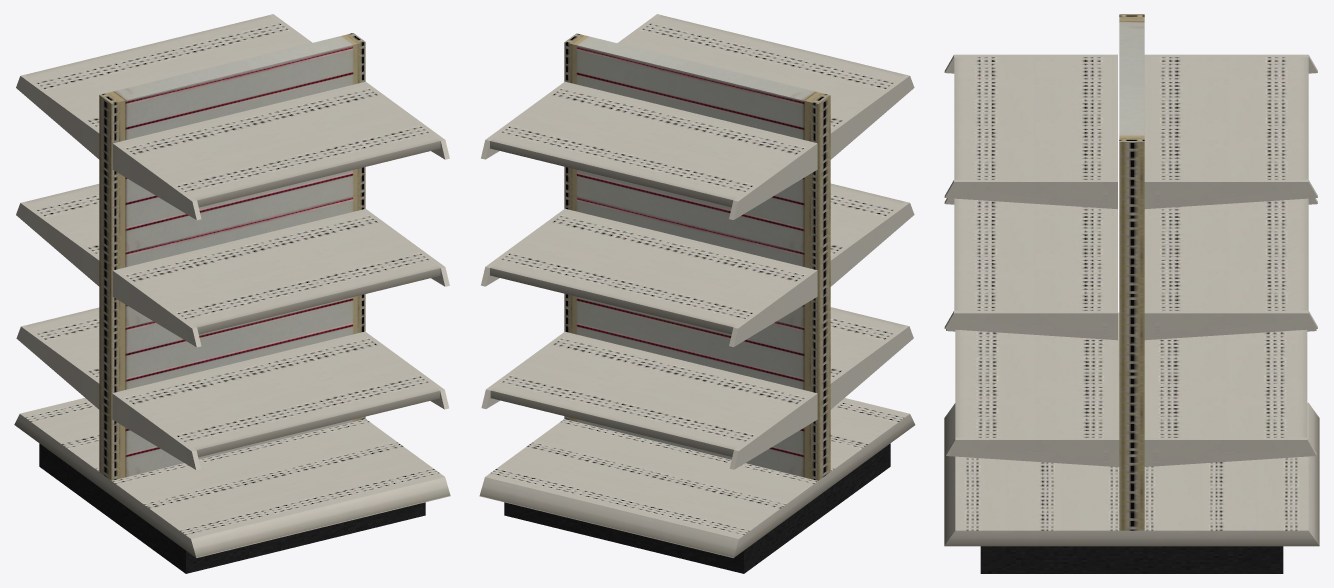
Rendered from Classic64_CommericalShelfShort_Model.fbx.
3 renders of one model, left to right at view 1: azimuth 30°, elevation 25°; view 2: azimuth 150°, elevation 25°; view 3: azimuth 270°, elevation 25°, orthographic. The views are drawn at different scales.
Visible parts, largest first — view 1: Classic64_CommericalShelfShort_Part000, Classic64_CommericalShelfShort_Part001, Classic64_CommericalShelfShort_Part007, Classic64_CommericalShelfShort_Part006, Classic64_CommericalShelfShort_Part008, Classic64_CommericalShelfShort_Part003, Classic64_CommericalShelfShort_Part002, Classic64_CommericalShelfShort_Part004, Classic64_CommericalShelfShort_Part005, Classic64_CommericalShelfShort_Part019, Classic64_CommericalShelfShort_Part018, Classic64_CommericalShelfShort_Part020 (+6 smaller); view 2: Classic64_CommericalShelfShort_Part000, Classic64_CommericalShelfShort_Part001, Classic64_CommericalShelfShort_Part003, Classic64_CommericalShelfShort_Part004, Classic64_CommericalShelfShort_Part005, Classic64_CommericalShelfShort_Part006, Classic64_CommericalShelfShort_Part002, Classic64_CommericalShelfShort_Part007, Classic64_CommericalShelfShort_Part008, Classic64_CommericalShelfShort_Part011, Classic64_CommericalShelfShort_Part010, Classic64_CommericalShelfShort_Part013 (+6 smaller); view 3: Classic64_CommericalShelfShort_Part001, Classic64_CommericalShelfShort_Part003, Classic64_CommericalShelfShort_Part006, Classic64_CommericalShelfShort_Part004, Classic64_CommericalShelfShort_Part007, Classic64_CommericalShelfShort_Part008, Classic64_CommericalShelfShort_Part005, Classic64_CommericalShelfShort_Part000, Classic64_CommericalShelfShort_Part002, Classic64_CommericalShelfShort_Part012, Classic64_CommericalShelfShort_Part009, Classic64_CommericalShelfShort_Part017 (+5 smaller).
Part boxes in pixels (x1,y1,x2,y2): Classic64_CommericalShelfShort_Part000: (99,33,365,480); Classic64_CommericalShelfShort_Part001: (14,398,450,557); Classic64_CommericalShelfShort_Part007: (118,210,440,334); Classic64_CommericalShelfShort_Part006: (118,83,440,207); Classic64_CommericalShelfShort_Part008: (117,332,439,457); Classic64_CommericalShelfShort_Part003: (25,15,307,128); Classic64_CommericalShelfShort_Part002: (39,443,425,573); Classic64_CommericalShelfShort_Part004: (25,184,99,255); Classic64_CommericalShelfShort_Part005: (26,307,99,378); Classic64_CommericalShelfShort_Part019: (112,269,201,347); Classic64_CommericalShelfShort_Part018: (112,142,201,220); Classic64_CommericalShelfShort_Part020: (112,392,200,469); Classic64_CommericalShelfShort_Part000: (564,33,830,480); Classic64_CommericalShelfShort_Part001: (479,398,915,558); Classic64_CommericalShelfShort_Part003: (490,83,812,207); Classic64_CommericalShelfShort_Part004: (490,210,812,334); Classic64_CommericalShelfShort_Part005: (490,333,812,456); Classic64_CommericalShelfShort_Part006: (622,15,904,128); Classic64_CommericalShelfShort_Part002: (504,443,890,573); Classic64_CommericalShelfShort_Part007: (830,183,904,255); Classic64_CommericalShelfShort_Part008: (830,307,904,378); Classic64_CommericalShelfShort_Part011: (729,269,817,346); Classic64_CommericalShelfShort_Part010: (729,142,817,219); Classic64_CommericalShelfShort_Part013: (729,392,817,469); Classic64_CommericalShelfShort_Part001: (944,402,1319,546); Classic64_CommericalShelfShort_Part003: (1144,57,1308,179); Classic64_CommericalShelfShort_Part006: (954,57,1117,179); Classic64_CommericalShelfShort_Part004: (1144,198,1308,310); Classic64_CommericalShelfShort_Part007: (954,198,1117,310); Classic64_CommericalShelfShort_Part008: (955,315,1119,437); Classic64_CommericalShelfShort_Part005: (1144,329,1307,437); Classic64_CommericalShelfShort_Part000: (1119,14,1144,530); Classic64_CommericalShelfShort_Part002: (980,546,1283,573); Classic64_CommericalShelfShort_Part012: (1144,310,1317,340); Classic64_CommericalShelfShort_Part009: (1144,179,1317,209); Classic64_CommericalShelfShort_Part017: (946,437,1119,466).
Size of the model in its own units: 0.9144 by 1.45 by 1.13.
4 materials, 4 textured.
